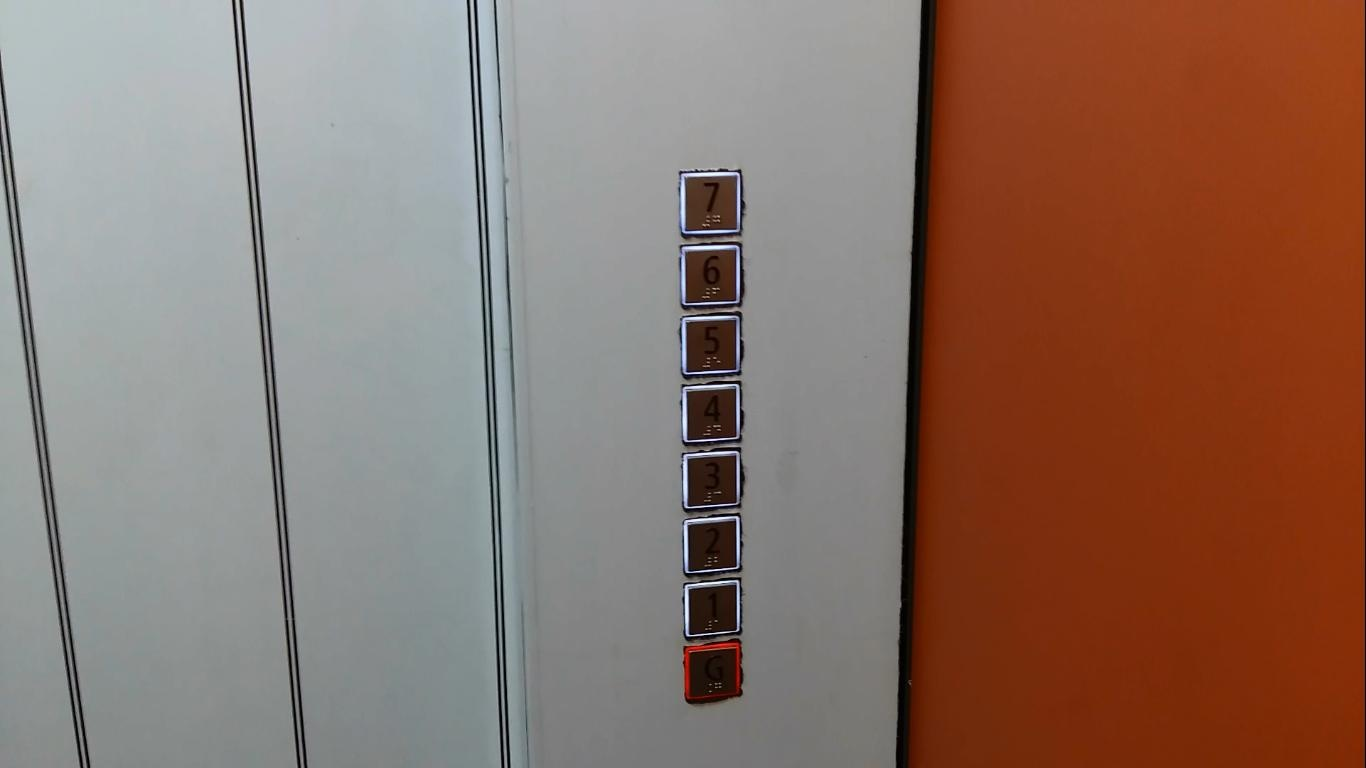1: (679, 576, 746, 643)
2: (679, 509, 746, 578)
3: (677, 447, 746, 515)
4: (677, 377, 746, 449)
5: (675, 310, 747, 379)
6: (676, 239, 747, 312)
7: (675, 164, 747, 243)
G: (679, 639, 746, 709)
